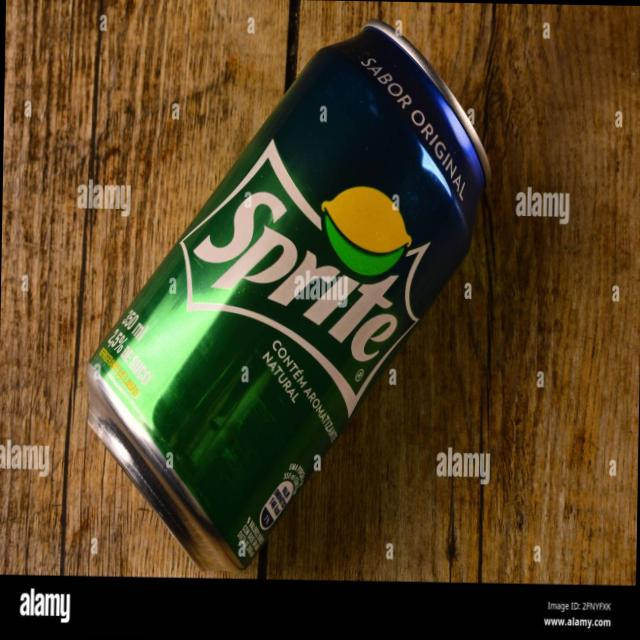sprite: (84, 15, 510, 552)
